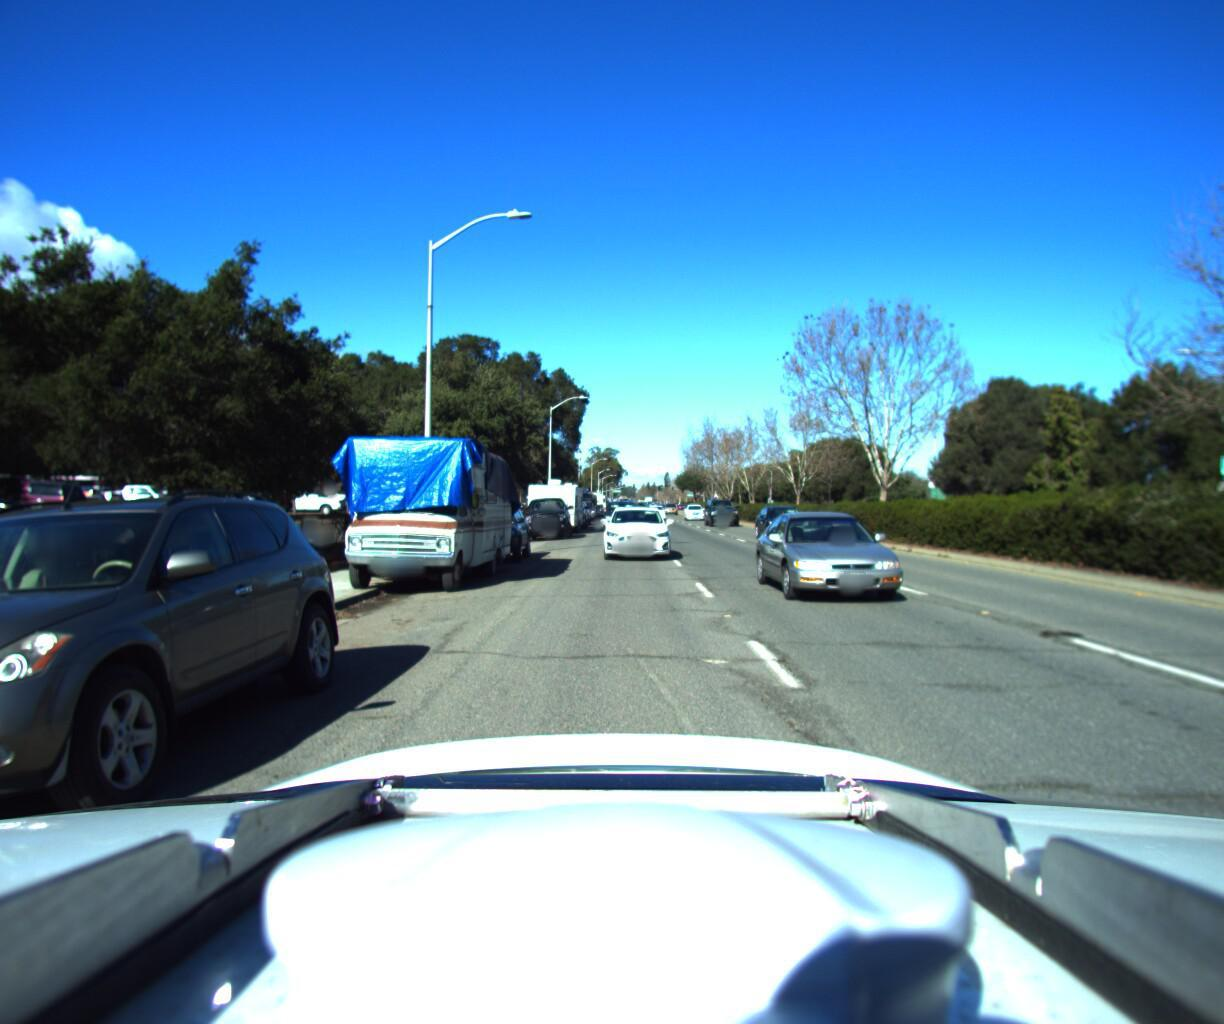car: (750, 501, 950, 622), (439, 487, 533, 565), (598, 499, 668, 558), (511, 488, 572, 538), (751, 498, 823, 539), (703, 496, 741, 519), (610, 491, 633, 514), (684, 494, 708, 514)
other_vehicle: (303, 425, 515, 598), (521, 472, 582, 531), (567, 479, 596, 513)
